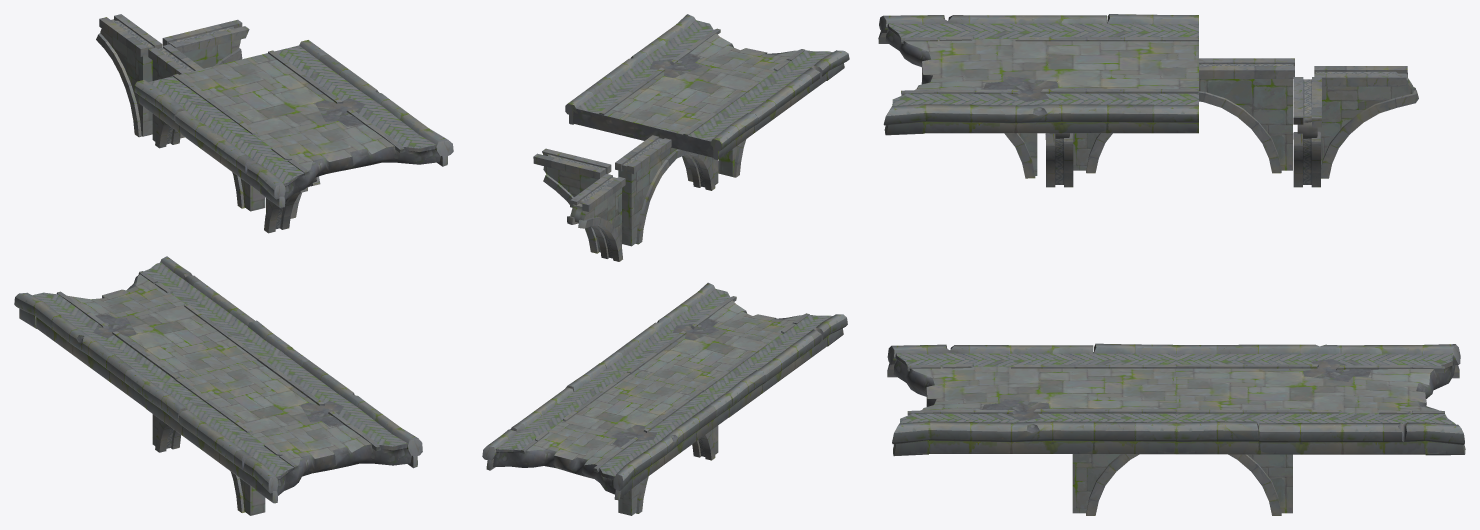
Rendered from Area_MdBuild_SdBridge_Combine01_Lod1.fbx.
3 views of the same model, side by side, from view 1: azimuth 30°, elevation 25°; view 2: azimuth 150°, elevation 25°; view 3: azimuth 270°, elevation 25° (orthographic). The views are drawn at different scales.
Visible parts, largest first — view 1: Area_MdBuild_SdBridge24_Lod1.001, Area_MdBuild_SdBridge24_Lod1 (1), Area_MdBuild_SdBridge24_Lod1, Area_MdProps_SdPillar01_07_Lod1, Area_MdProps_SdPillar01_06_Lod1, Area_MdProps_SdPillar01_05_Lod1, Area_MdProps_SdPillar01_05_Lod1 (1), Area_MdProps_SdPillar01_06_Lod1.002; view 2: Area_MdBuild_SdBridge24_Lod1.001, Area_MdBuild_SdBridge24_Lod1, Area_MdBuild_SdBridge24_Lod1 (1), Area_MdProps_SdPillar01_05_Lod1, Area_MdProps_SdPillar01_07_Lod1, Area_MdProps_SdPillar01_06_Lod1, Area_MdProps_SdPillar01_05_Lod1 (1), Area_MdProps_SdPillar01_06_Lod1.002; view 3: Area_MdBuild_SdBridge24_Lod1.001, Area_MdBuild_SdBridge24_Lod1, Area_MdBuild_SdBridge24_Lod1 (1), Area_MdProps_SdPillar01_05_Lod1, Area_MdProps_SdPillar01_07_Lod1, Area_MdProps_SdPillar01_05_Lod1 (1), Area_MdProps_SdPillar01_06_Lod1, Area_MdProps_SdPillar01_06_Lod1.001, Area_MdProps_SdPillar01_06_Lod1.002.
Part boxes in pixels (x1,y1,x2,y2): Area_MdBuild_SdBridge24_Lod1.001: (134, 40, 453, 207); Area_MdBuild_SdBridge24_Lod1 (1): (142, 348, 422, 503); Area_MdBuild_SdBridge24_Lod1: (14, 256, 292, 407); Area_MdProps_SdPillar01_07_Lod1: (96, 14, 162, 137); Area_MdProps_SdPillar01_06_Lod1: (162, 19, 249, 138); Area_MdProps_SdPillar01_05_Lod1: (148, 44, 265, 211); Area_MdProps_SdPillar01_05_Lod1 (1): (152, 414, 265, 515); Area_MdProps_SdPillar01_06_Lod1.002: (264, 176, 320, 233); Area_MdBuild_SdBridge24_Lod1.001: (565, 14, 849, 159); Area_MdBuild_SdBridge24_Lod1: (482, 363, 731, 500); Area_MdBuild_SdBridge24_Lod1 (1): (600, 282, 847, 417); Area_MdProps_SdPillar01_05_Lod1: (615, 135, 718, 246); Area_MdProps_SdPillar01_07_Lod1: (567, 173, 625, 261); Area_MdProps_SdPillar01_06_Lod1: (533, 148, 611, 253); Area_MdProps_SdPillar01_05_Lod1 (1): (618, 425, 718, 515); Area_MdProps_SdPillar01_06_Lod1.002: (718, 139, 746, 177); Area_MdBuild_SdBridge24_Lod1.001: (878, 14, 1198, 135); Area_MdBuild_SdBridge24_Lod1: (1176, 344, 1465, 455); Area_MdBuild_SdBridge24_Lod1 (1): (887, 343, 1176, 456); Area_MdProps_SdPillar01_05_Lod1: (1073, 58, 1294, 173); Area_MdProps_SdPillar01_07_Lod1: (1314, 66, 1418, 178); Area_MdProps_SdPillar01_05_Lod1 (1): (1072, 454, 1292, 515); Area_MdProps_SdPillar01_06_Lod1: (1293, 77, 1321, 187); Area_MdProps_SdPillar01_06_Lod1.001: (1045, 133, 1073, 187); Area_MdProps_SdPillar01_06_Lod1.002: (1004, 133, 1037, 178).
Bounding box in the file's own units: 12.37 × 26.33 × 30.42.
4 materials, 4 textured.
